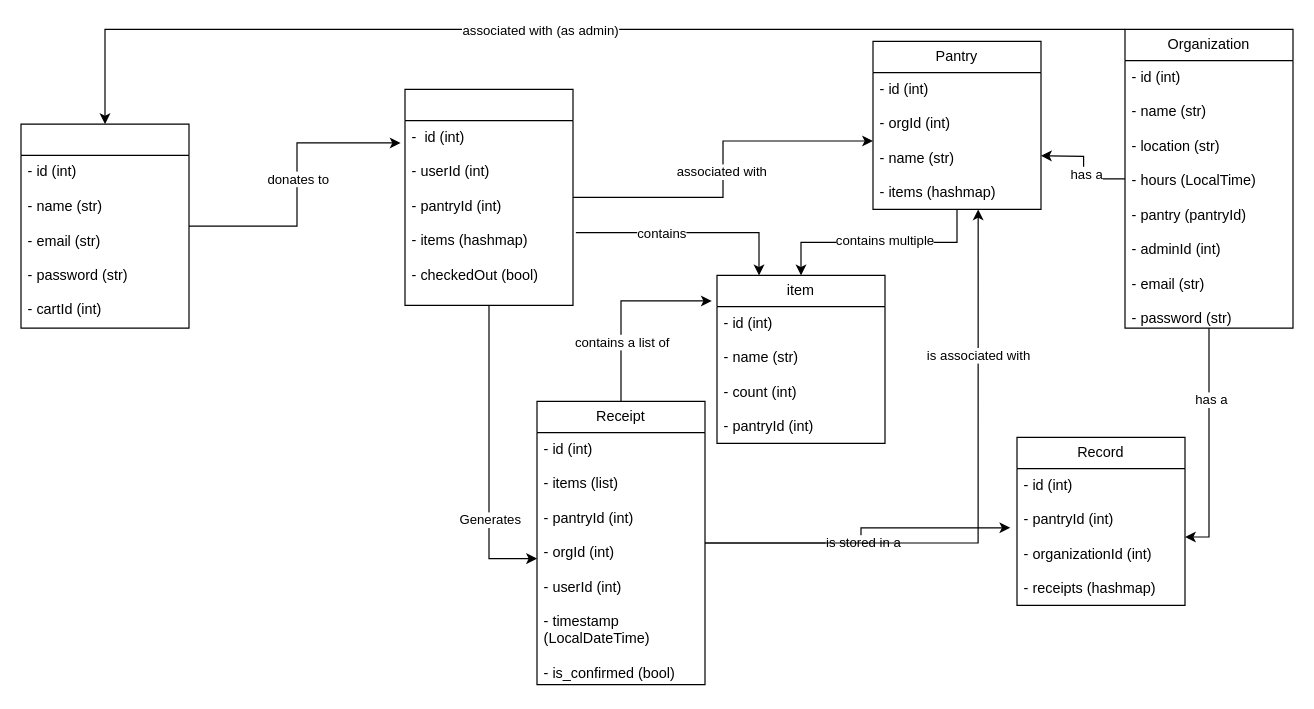
Some shapes in this 1314 by 709 pixel diagram are drawn without their labels. The box of each missing label's shape, as (x1, y1, x2, y2) in pixels:
Cart: (404, 88, 573, 305)
User: (20, 123, 189, 328)
